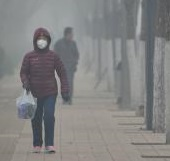person: (15, 27, 68, 155), (52, 25, 82, 107)
